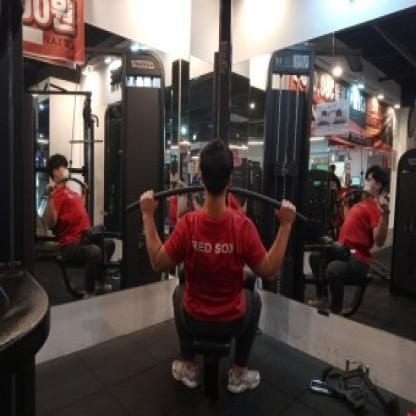Lat Pull Down: (115, 0, 321, 416)
